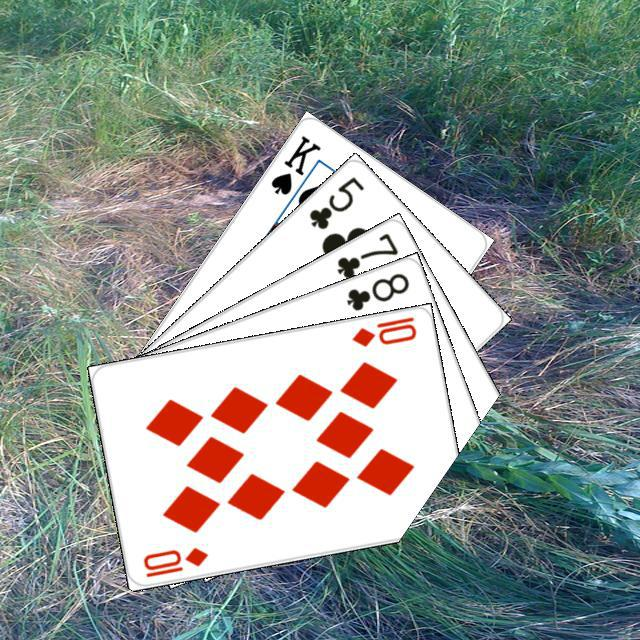10d: (347, 312, 418, 349), (138, 542, 209, 579)
5c: (304, 171, 366, 232)
7c: (331, 227, 400, 281)
8c: (341, 268, 411, 313)
Ks: (266, 130, 323, 197)
